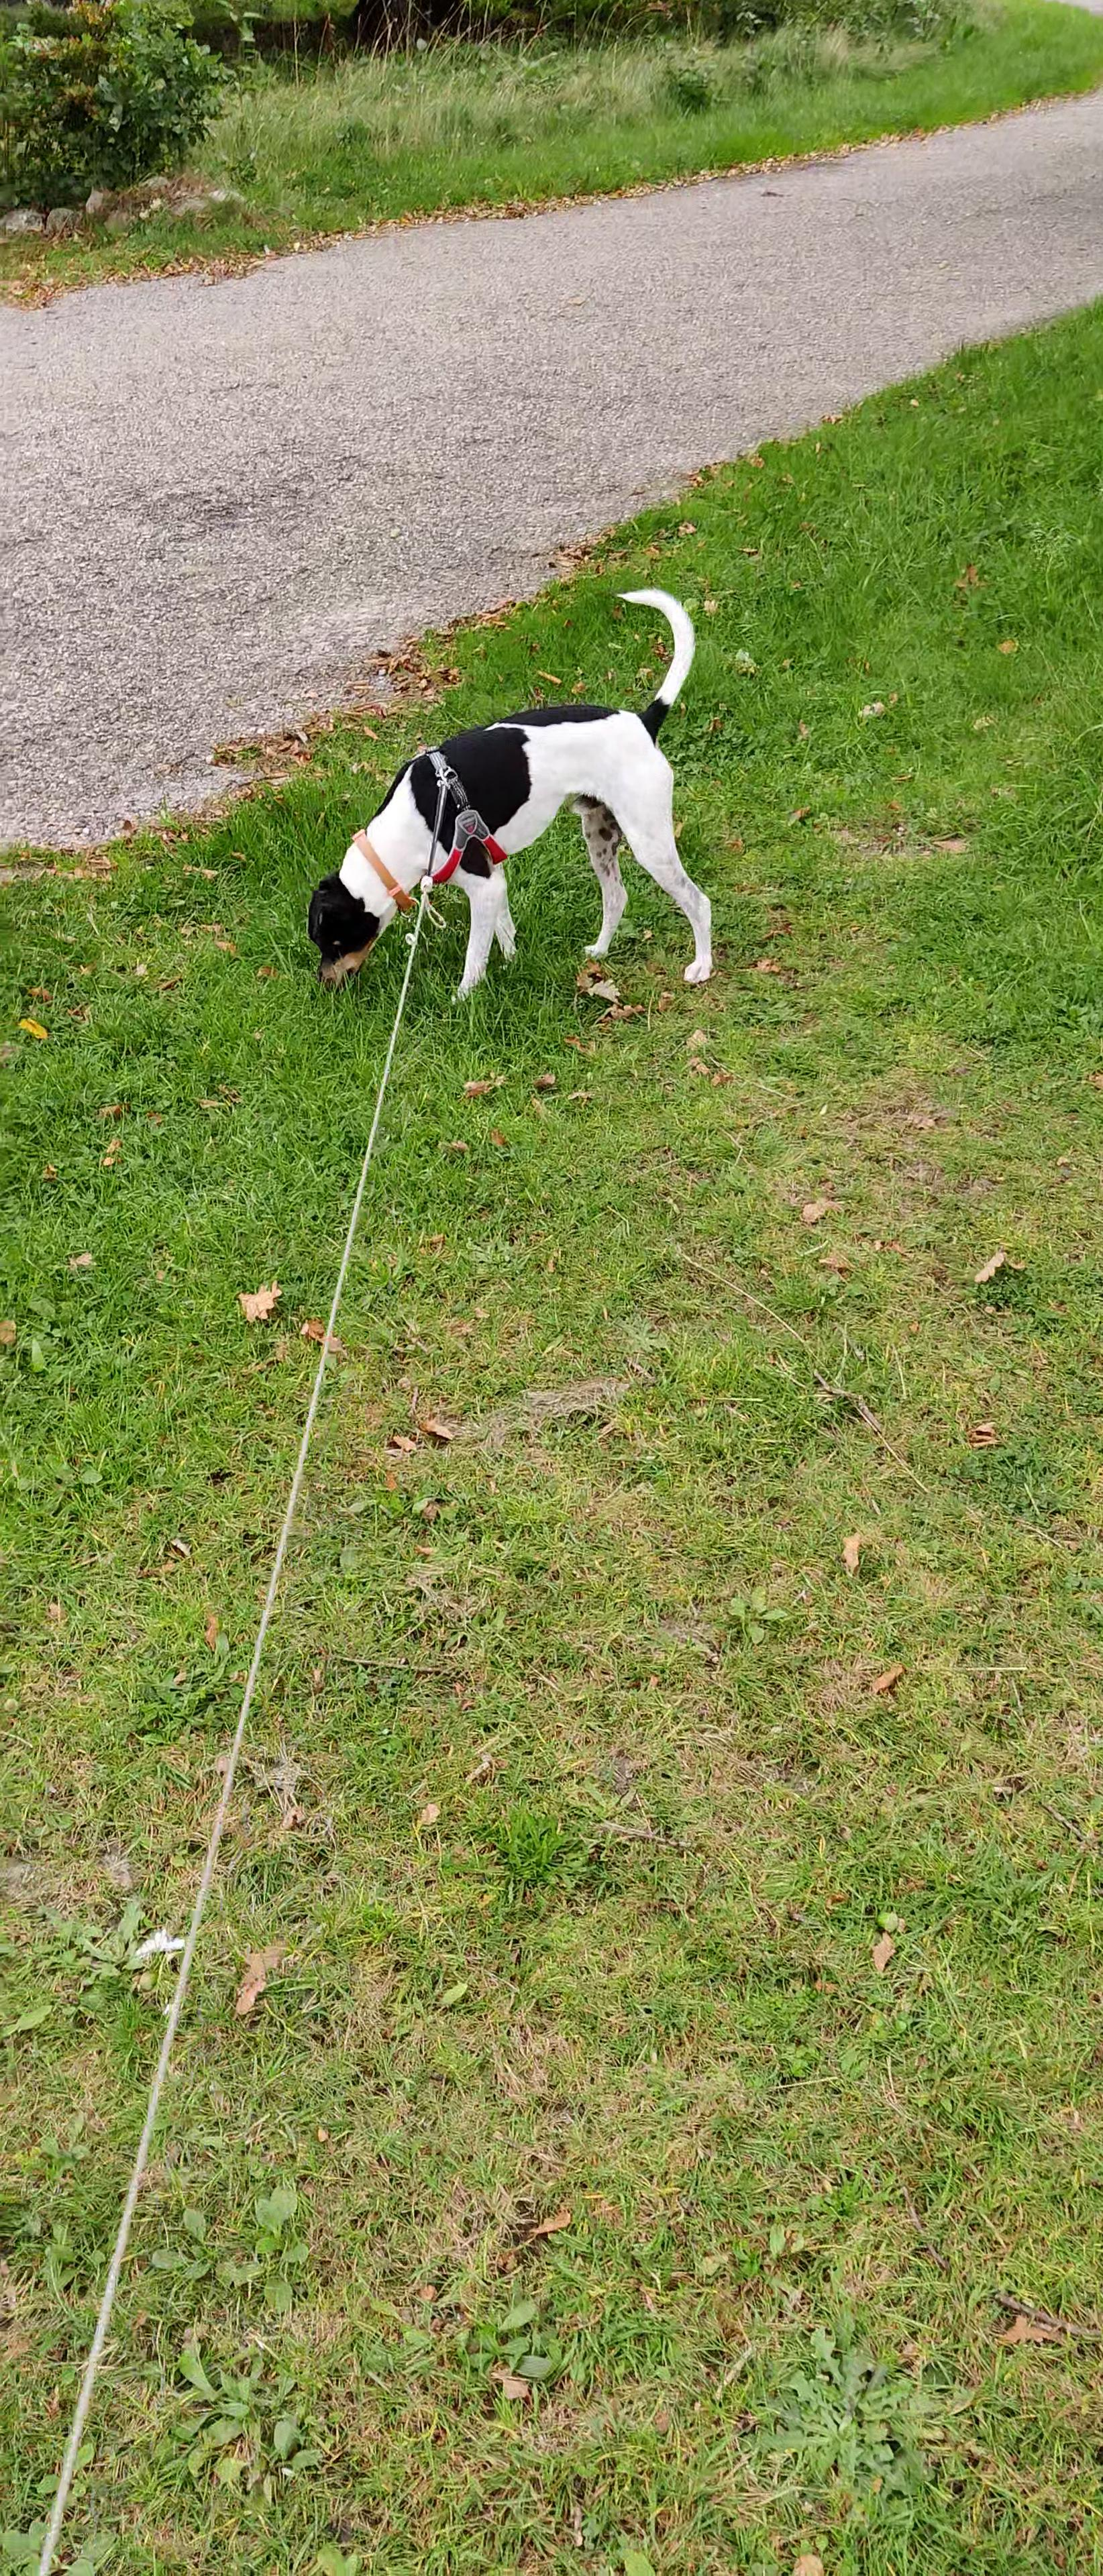Dog: (302, 582, 715, 1005)
